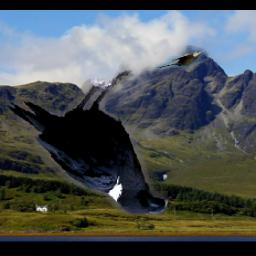Crow: (7, 70, 169, 215)
Cuckoo: (156, 50, 204, 68)
